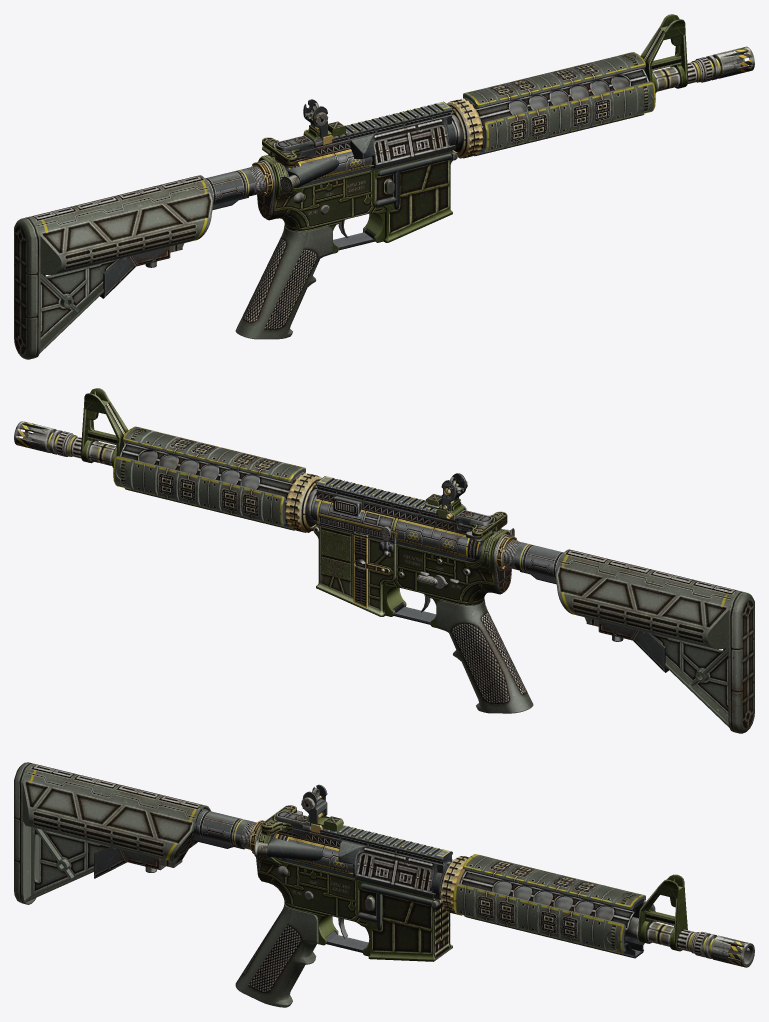
Rendered from w_carbinerifle_pioneer.glb.
The picture shows the model from 3 angles, top to bottom: view 1: azimuth 30°, elevation 25°; view 2: azimuth 150°, elevation 25°; view 3: azimuth 330°, elevation 25°; orthographic projection.
Visible parts, largest first — view 1: Gun_Root; view 2: Gun_Root; view 3: Gun_Root.
Part boxes in pixels (x1,y1,x2,y2): Gun_Root: [14, 14, 754, 359]; Gun_Root: [14, 388, 754, 733]; Gun_Root: [14, 762, 754, 1007].
Size of the model in its own units: 0.8124 by 0.2386 by 0.0704.
1 material, 1 textured.
